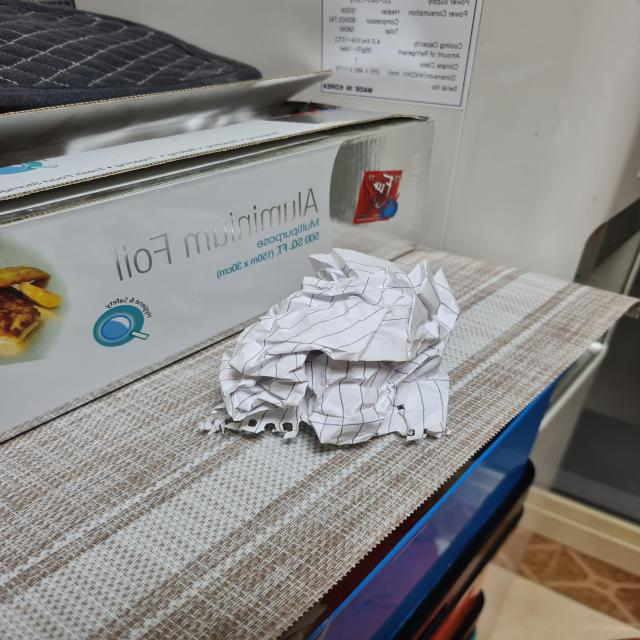kertas: (207, 244, 458, 446)
